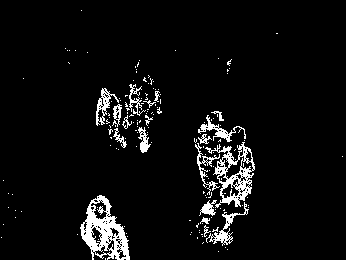person: (215, 125, 256, 245), (194, 109, 230, 227), (77, 193, 131, 259), (124, 72, 162, 155), (96, 88, 126, 148)
